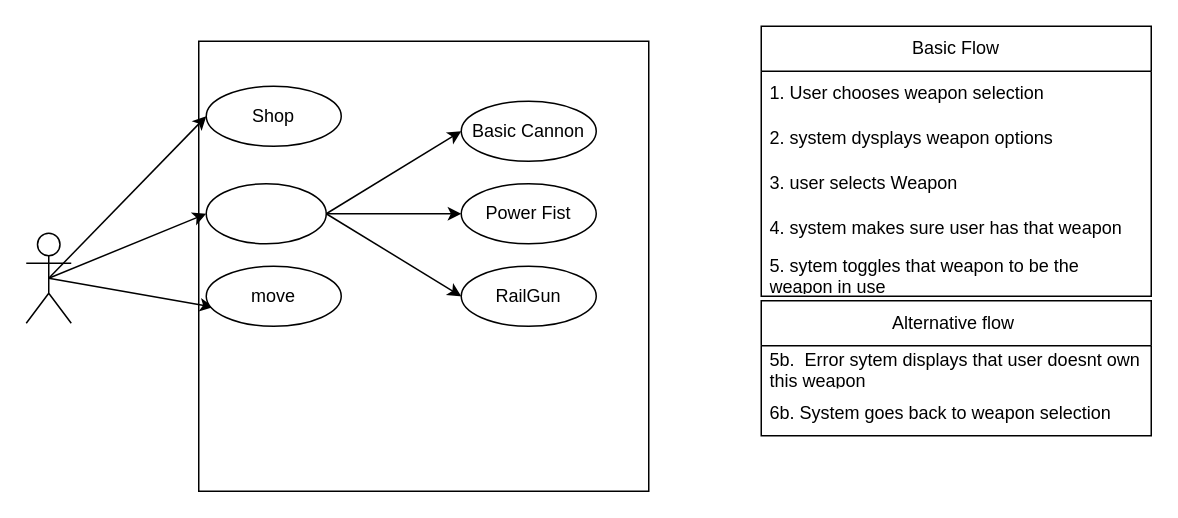
Some shapes in this 1178 by 518 pixel diagram are drawn without their labels. The shapes that lost their labels are listed below. From the top down, each one's centre as x and y in pixels, then its label:
At (265,213): "Weapon Selection".
At (48,277): "Actor".
